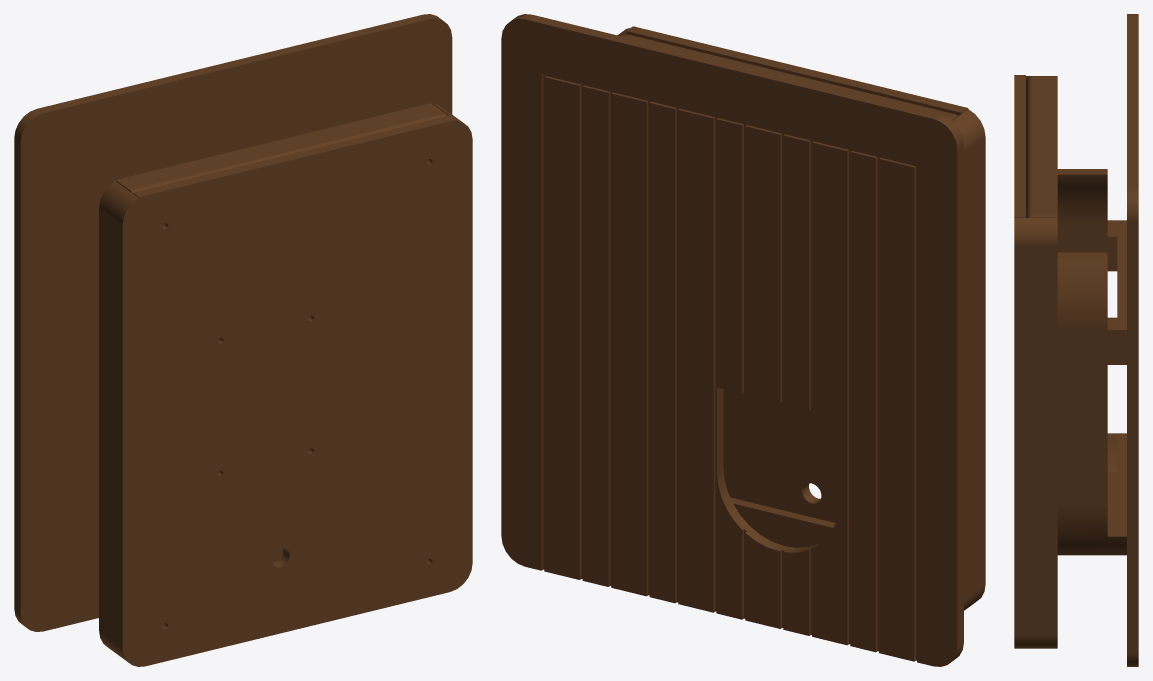
The model's file is Wallbox.glb.
3 renders of one model, left to right at view 1: azimuth 30°, elevation 25°; view 2: azimuth 150°, elevation 25°; view 3: azimuth 270°, elevation 25°, orthographic. The views are drawn at different scales.
Visible parts, largest first — view 1: Body1; view 2: Body1; view 3: Body1.
Boxes of the visible parts, x1,y1,x2,y2 form: Body1: [14, 14, 472, 666]; Body1: [501, 14, 985, 666]; Body1: [1014, 14, 1138, 666].
Bounding box in the file's own units: 0.476 × 0.546 × 0.129.
